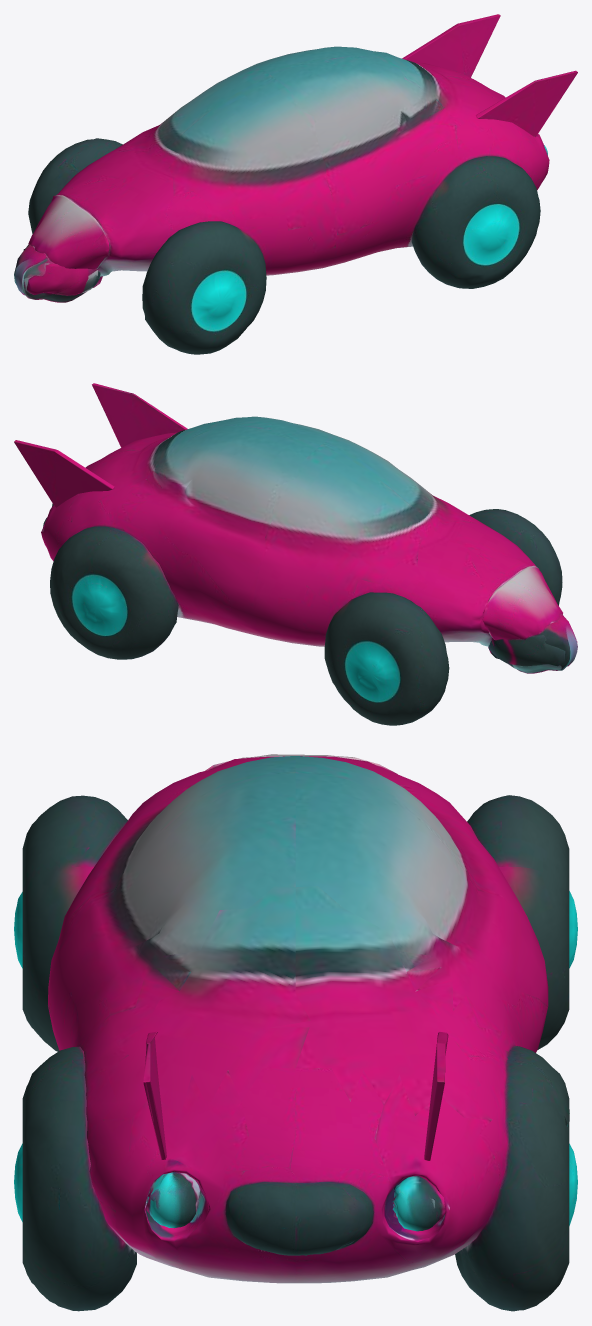
The model's file is trafficSkyCar.d56a7d76.glb.
The picture shows the model from 3 angles, top to bottom: view 1: azimuth 30°, elevation 25°; view 2: azimuth 150°, elevation 25°; view 3: azimuth 270°, elevation 25°; orthographic projection. The views are drawn at different scales.
Size of the model in its own units: 0.9536 by 0.3623 by 0.4722.
Materials: 1 (1 with a texture image).
